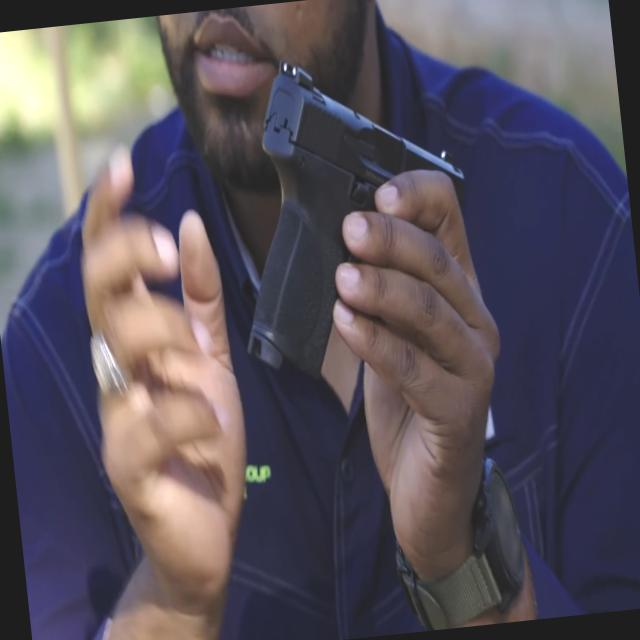handgun: (194, 39, 500, 388)
